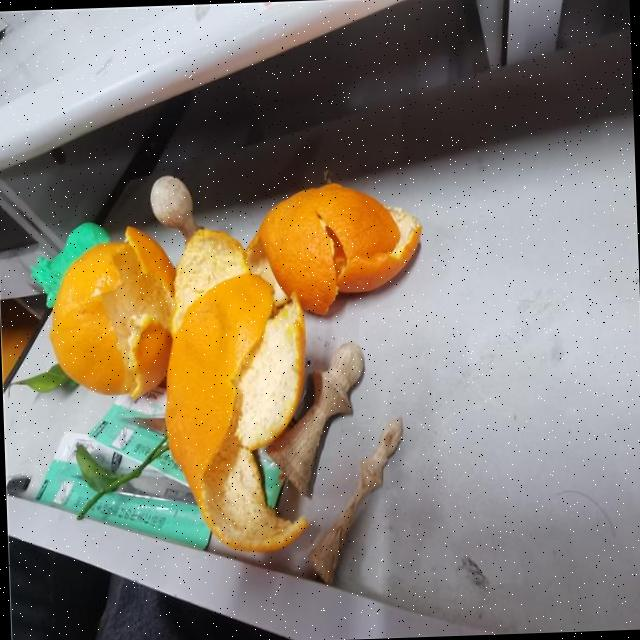orange-peel: (42, 172, 433, 560), (254, 176, 424, 318), (44, 224, 178, 400)
